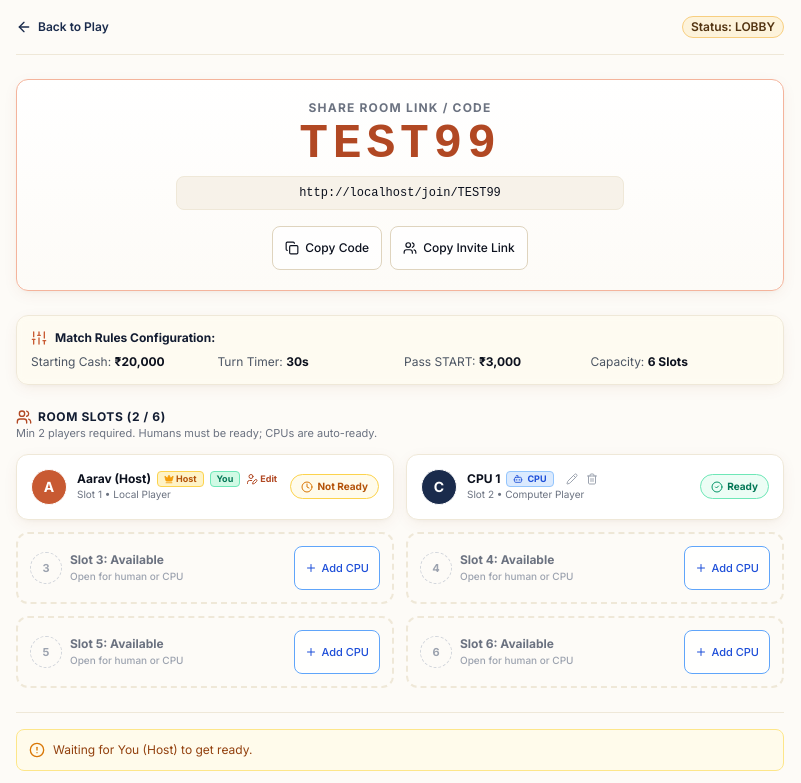
Test case: LobbyPage 6-Slot Grid, Readiness & Host CPU Controls UI › provides host with Add CPU, inline rename, and remove CPU controls
Later steps or results of the test are not shown.
Click the 1st button "Add CPU": [337, 568] box [294,546,380,590]
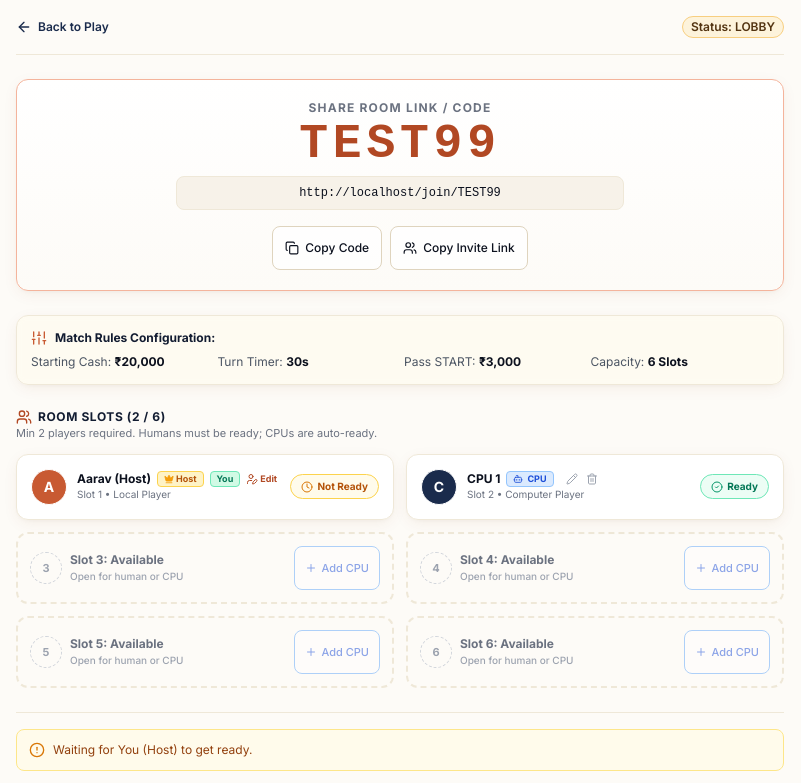
Note: Host can click Rename CPU button (pencil)
Click the button titled "Rename CPU": [572, 479] box [564,471,580,487]
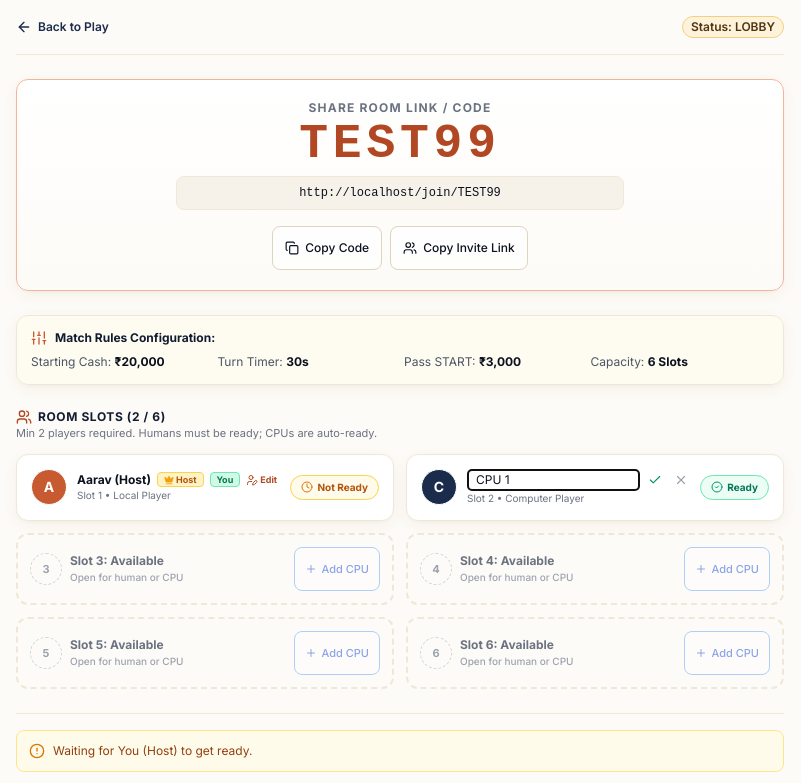
Check: the field with placeholder "CPU Name" is shown, box [467,468,640,490]
